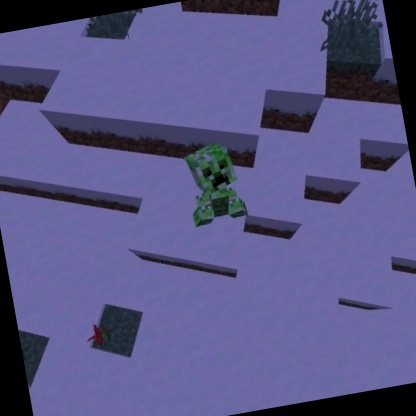creeper: (179, 137, 251, 232)
